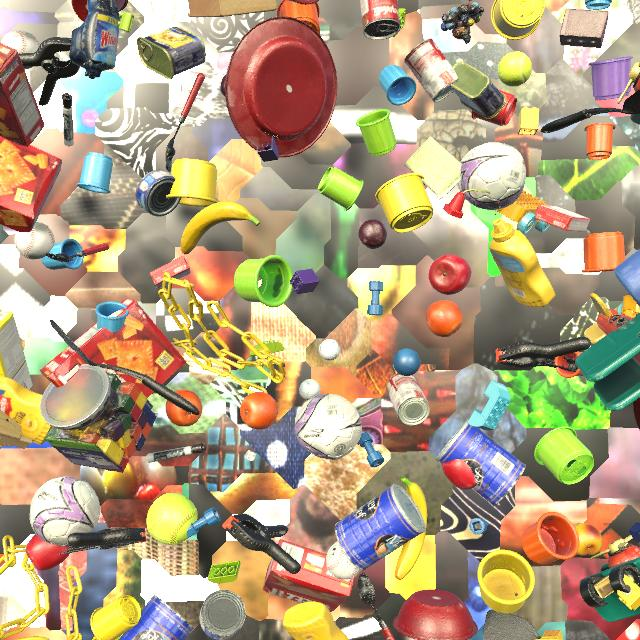ycb_002_master_chef_can: (335, 484, 426, 571), (436, 419, 526, 506), (119, 595, 194, 640)
ycb_003_cracker_box: (40, 298, 187, 398), (263, 539, 354, 612), (0, 136, 62, 233), (0, 43, 45, 147)
ycb_004_sugar_box: (0, 312, 33, 390)
ycb_005_tomato_soup_can: (404, 38, 458, 103), (386, 373, 430, 426), (360, 0, 401, 40)
ycb_006_mustard_bottle: (489, 218, 555, 307), (0, 376, 50, 445), (282, 602, 349, 640), (535, 638, 561, 640)
ycb_007_tuna_fish_can: (199, 590, 246, 640), (136, 169, 181, 217)
ycb_009_gelatin_box: (535, 205, 591, 232), (149, 255, 191, 289)
ycb_010_potted_meat_can: (137, 26, 206, 80), (450, 61, 507, 119)
ycb_011_banana: (181, 202, 260, 254), (395, 477, 427, 580)
ycb_013_apple: (428, 254, 471, 295), (26, 534, 70, 571), (442, 459, 476, 490)
ycb_015_peach: (574, 523, 603, 556)
ycb_017_orange: (240, 392, 278, 430), (165, 389, 202, 427), (426, 300, 463, 337)
ycb_018_plum: (358, 219, 387, 249), (220, 75, 226, 97)
